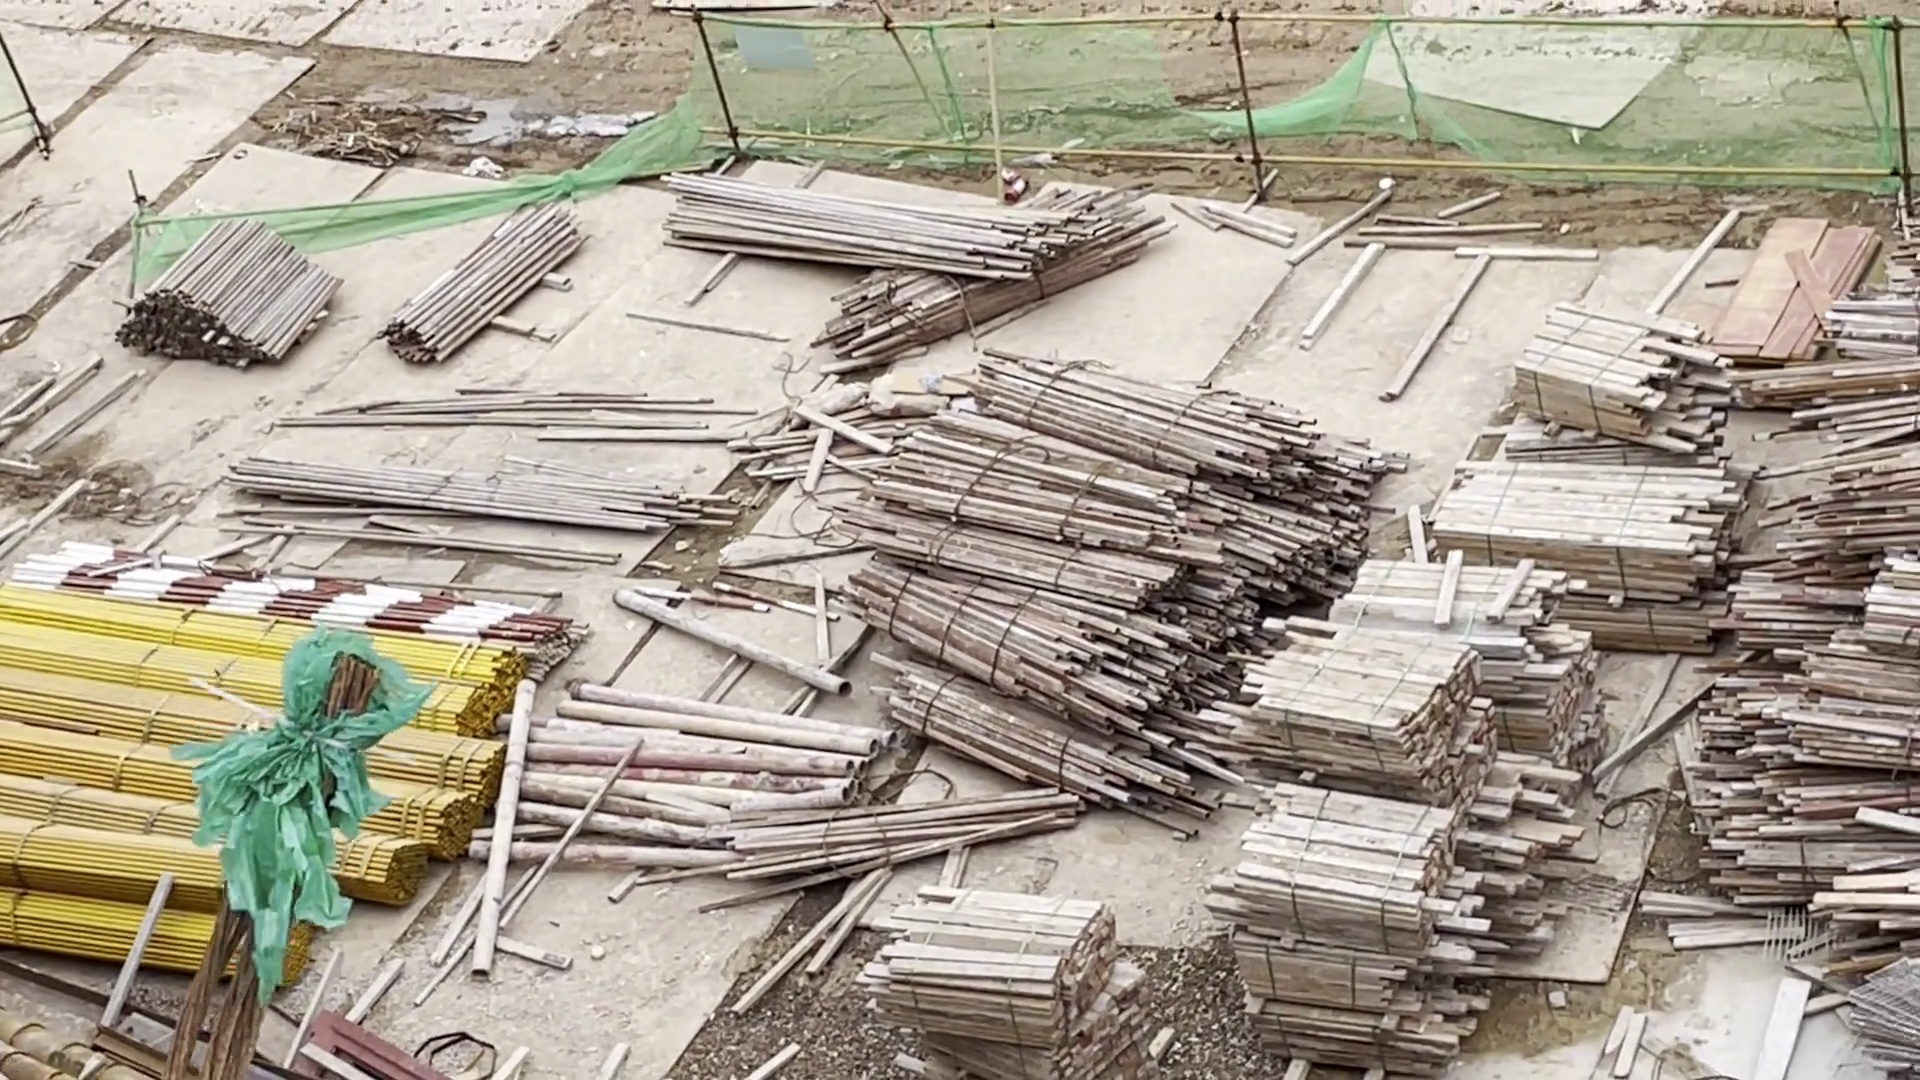board: (1725, 208, 1858, 353)
wood: (1246, 568, 1598, 1055), (890, 365, 1250, 783), (1734, 371, 1920, 953), (690, 165, 1162, 339), (1486, 320, 1750, 624), (872, 876, 1178, 1068), (117, 219, 319, 371), (415, 200, 585, 367)
